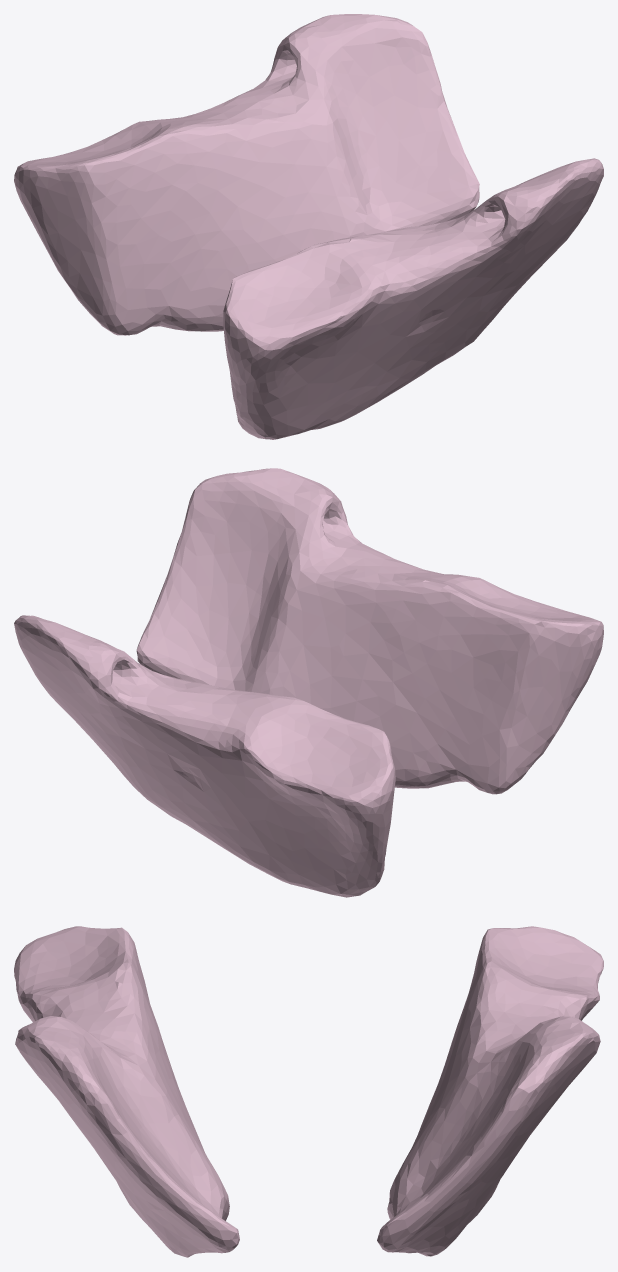
3 renders of one model, top to bottom at view 1: azimuth 30°, elevation 25°; view 2: azimuth 150°, elevation 25°; view 3: azimuth 270°, elevation 25°, orthographic. The views are drawn at different scales.
Visible parts, largest first — view 1: 136.obj; view 2: 136.obj; view 3: 136.obj.
Boxes of the visible parts, bbox=[...] form: 136.obj: bbox=[14, 14, 603, 439]; 136.obj: bbox=[14, 468, 603, 897]; 136.obj: bbox=[14, 926, 603, 1257].
Size of the model in its own units: 2841 by 1627 by 3102.
